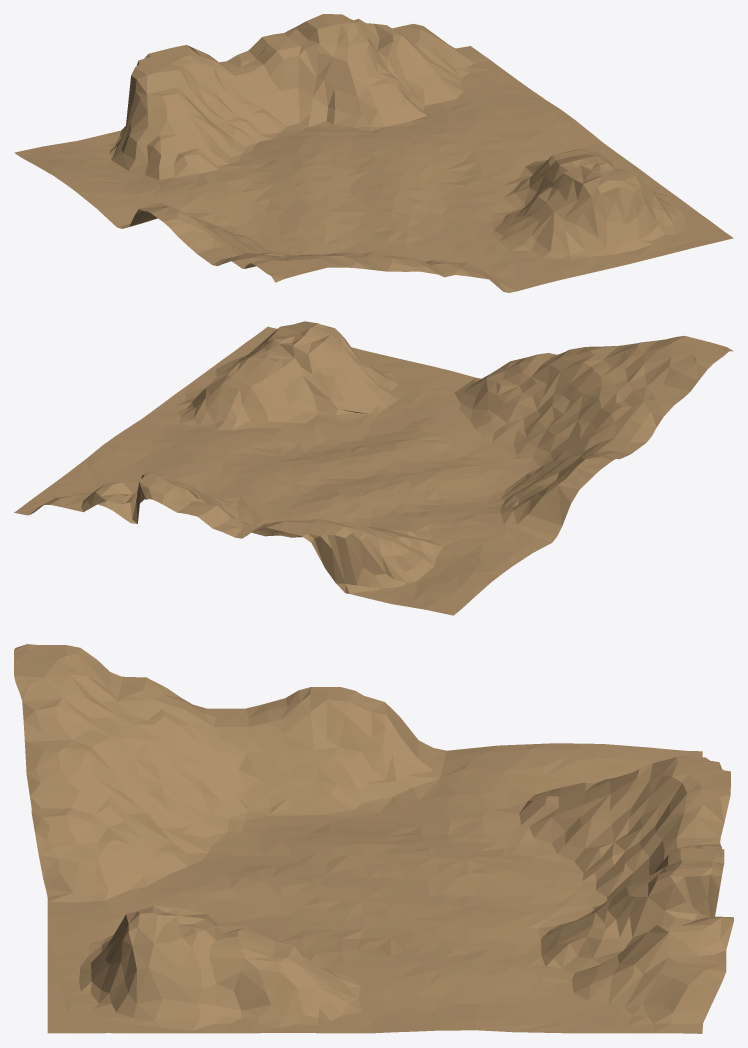
Rendered from villagePlane.fbx.
The picture shows the model from 3 angles, top to bottom: view 1: azimuth 30°, elevation 25°; view 2: azimuth 150°, elevation 25°; view 3: azimuth 270°, elevation 25°; orthographic projection. The views are drawn at different scales.
Visible parts, largest first — view 1: Plane; view 2: Plane; view 3: Plane.
Boxes of the visible parts, <box> form: Plane: <box>14,14,733,292</box>; Plane: <box>14,321,733,615</box>; Plane: <box>14,644,733,1033</box>.
Bounding box in the file's own units: 2066 × 351 × 2198.
